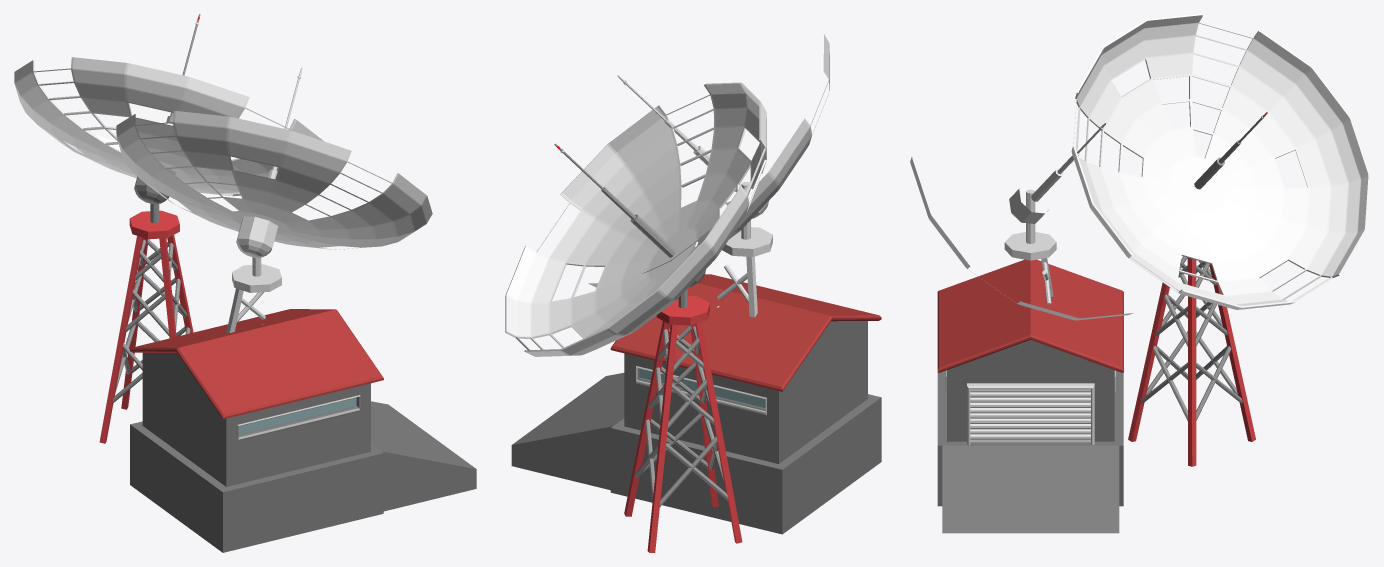
Rendered from Repaishop_003.glb.
3 renders of one model, left to right at view 1: azimuth 30°, elevation 25°; view 2: azimuth 150°, elevation 25°; view 3: azimuth 270°, elevation 25°, orthographic. The views are drawn at different scales.
Visible parts, largest first — view 1: Repairshop_Base_normalclimate, Satelite_Dish.001, Satelite_Dish.003, Tower_Base, Tower_Platform.001, Tower_Base.001; view 2: Repairshop_Base_normalclimate, Satelite_Dish.003, Tower_Base, Satelite_Dish.001, Tower_Platform.001, Tower_Base.001; view 3: Satelite_Dish.003, Repairshop_Base_normalclimate, Tower_Base, Satelite_Dish.001, Tower_Platform.001.
Boxes of the visible parts, x1,y1,x2,y2 form: Repairshop_Base_normalclimate: (130,309,476,552); Satelite_Dish.001: (116,67,432,257); Satelite_Dish.003: (14,14,323,203); Tower_Base: (99,203,193,443); Tower_Platform.001: (232,264,281,292); Tower_Base.001: (226,288,265,333); Repairshop_Base_normalclimate: (511,274,881,534); Satelite_Dish.003: (505,82,766,356); Tower_Base: (624,289,742,552); Satelite_Dish.001: (588,33,829,287); Tower_Platform.001: (722,227,772,256); Tower_Base.001: (716,256,757,317); Satelite_Dish.003: (1071,14,1369,309); Repairshop_Base_normalclimate: (937,259,1123,533); Tower_Base: (1128,256,1255,466); Satelite_Dish.001: (910,122,1133,320); Tower_Platform.001: (1004,232,1056,260).
Size of what is drawn, in the model's own units: 28.68 by 39.13 by 39.53.
